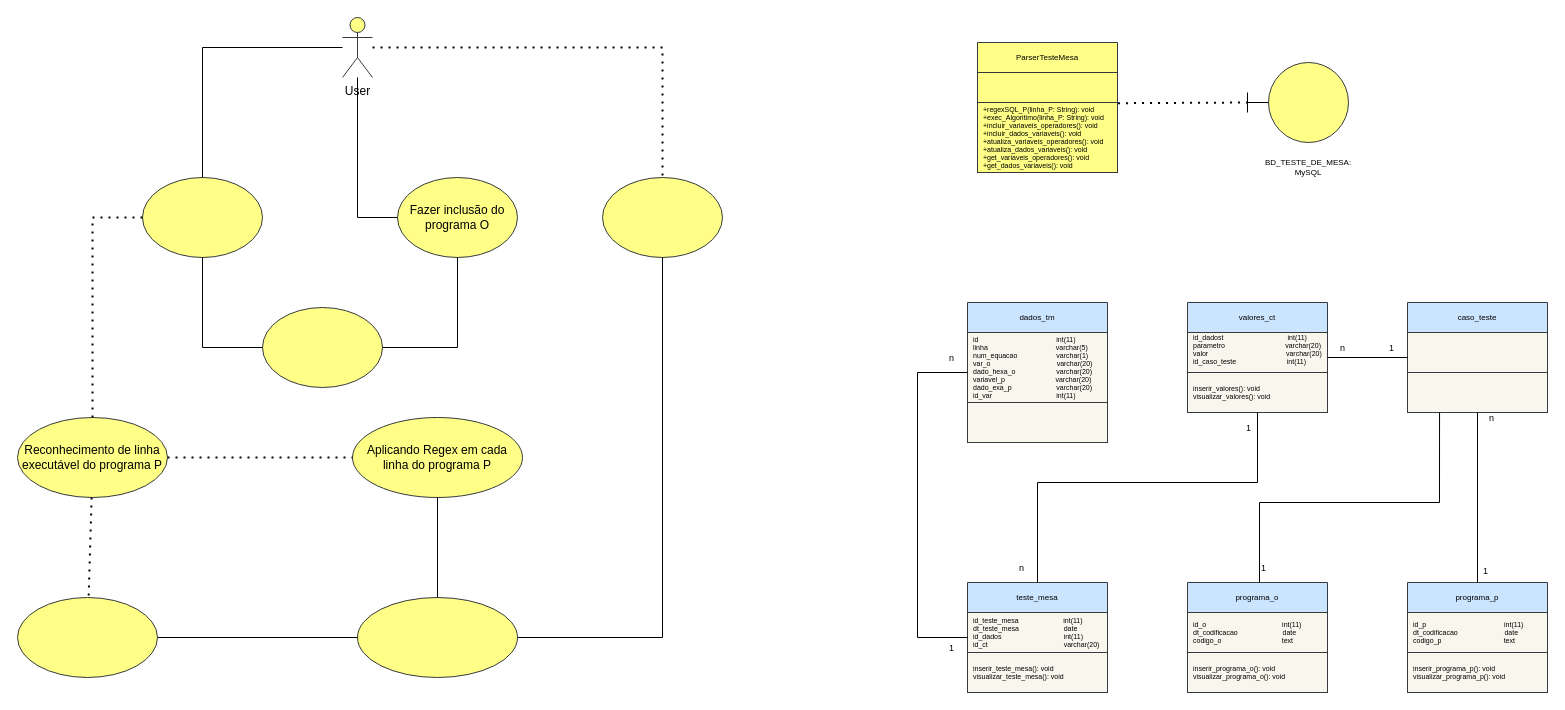
The diagram is 1565 pixels wide and 710 high, and some of its shapes have lost their labels. Here are the shapes that lost their labels. From the top down, the centre of each, then its label:
At [1047,87]: "- Programa O: Text - Programa P: Text".
At [202,217]: "Incluir programa P".
At [662,217]: "Mostra dados, variáveis e operadores para o usuário".
At [322,347]: "Exibir para o usuário programa O e P".
At [1477,352]: "id_caso_teste int(11) id_programa_o int(11) id_programa_p int(11)".
At [1477,392]: "inserir_caso_teste(): void visualizar_caso_teste(): void".
At [1037,422]: "inserir_dados(): void visualizar_dados(): void".
At [87,637]: "Cada linha do programa P, executa o algorítimo que salva valores".
At [437,637]: "Salva variáveis, valores e operadores no banco de dados".
